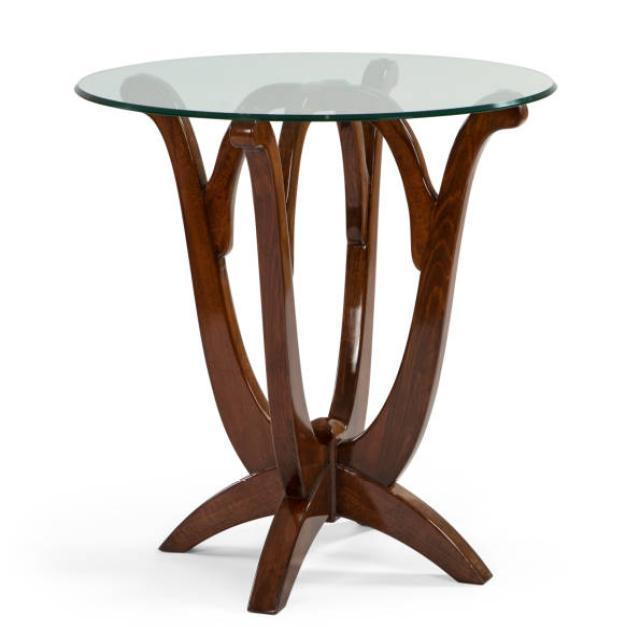table: (73, 50, 557, 614)
